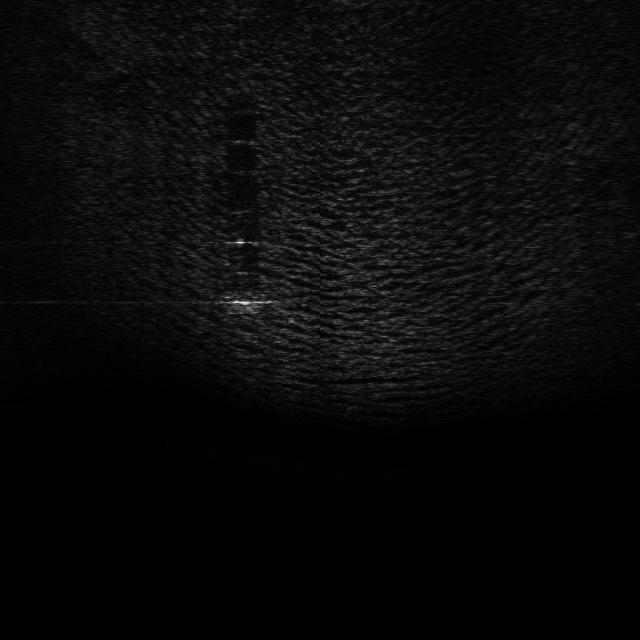cube: (220, 288, 260, 316)
